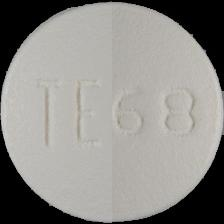54868-6365: (0, 0, 224, 224)
